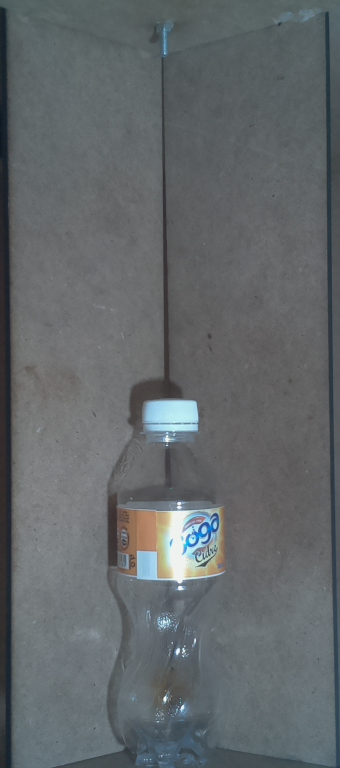Bouteille_0.3L: (107, 389, 230, 768)
